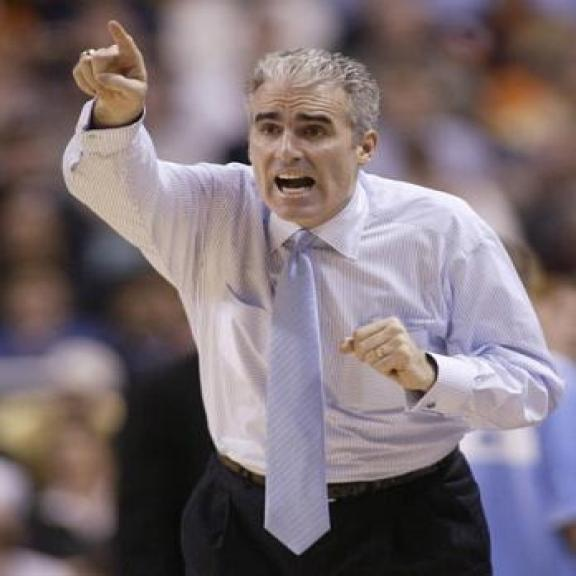face: (247, 72, 379, 224)
